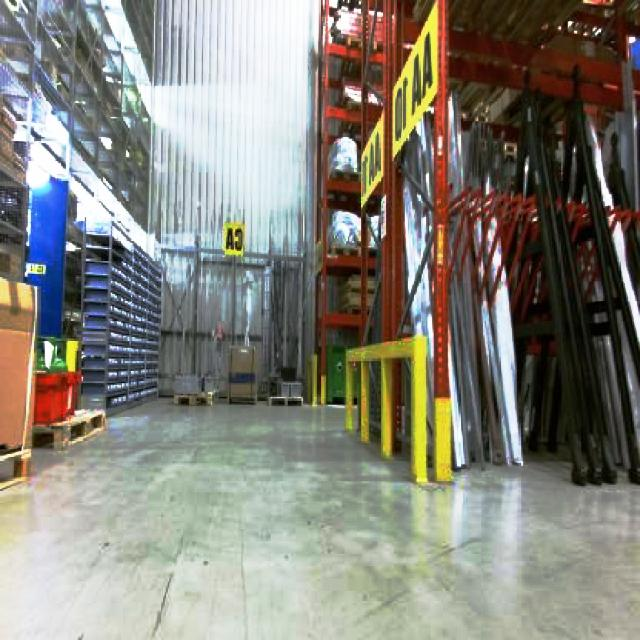ground: (0, 392, 638, 638)
pallet: (314, 0, 638, 492), (312, 0, 388, 405), (75, 217, 162, 415), (343, 332, 429, 482), (0, 257, 40, 517), (77, 220, 111, 417), (32, 406, 105, 449), (226, 343, 257, 403), (0, 445, 31, 497), (171, 372, 217, 405)
